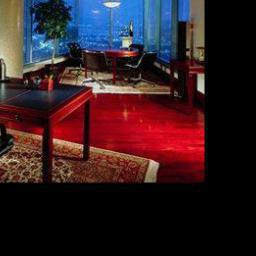Matera: (39, 3, 71, 79)
